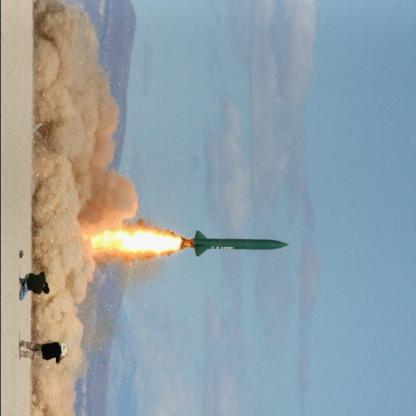MIL_TBM: (191, 239, 289, 250)
